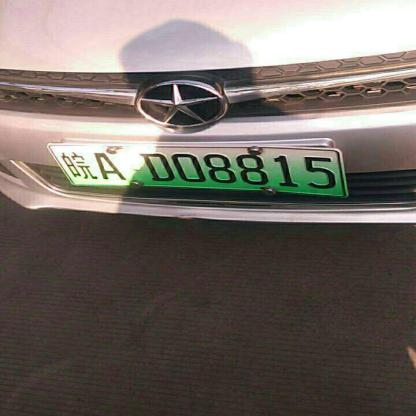lp: (49, 146, 74, 195)
